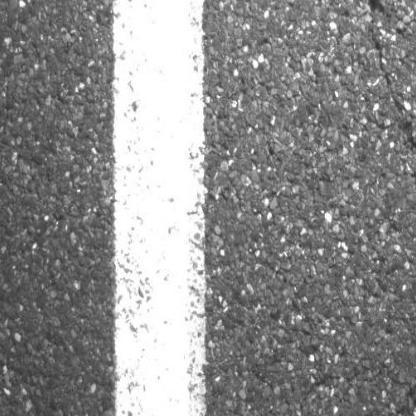Cracks: (356, 0, 416, 235)
